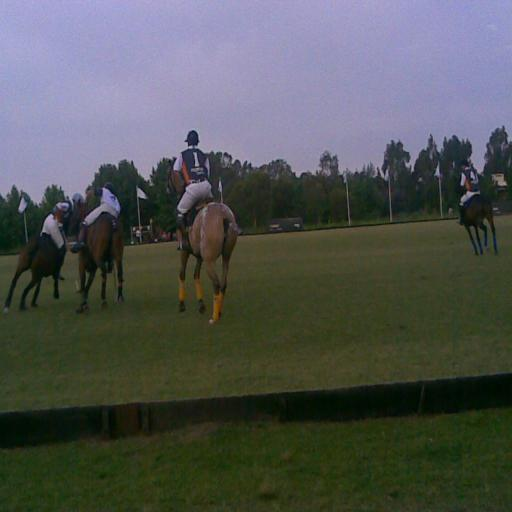horse: (162, 158, 246, 326), (68, 194, 125, 318), (2, 216, 72, 314), (454, 178, 499, 256)
